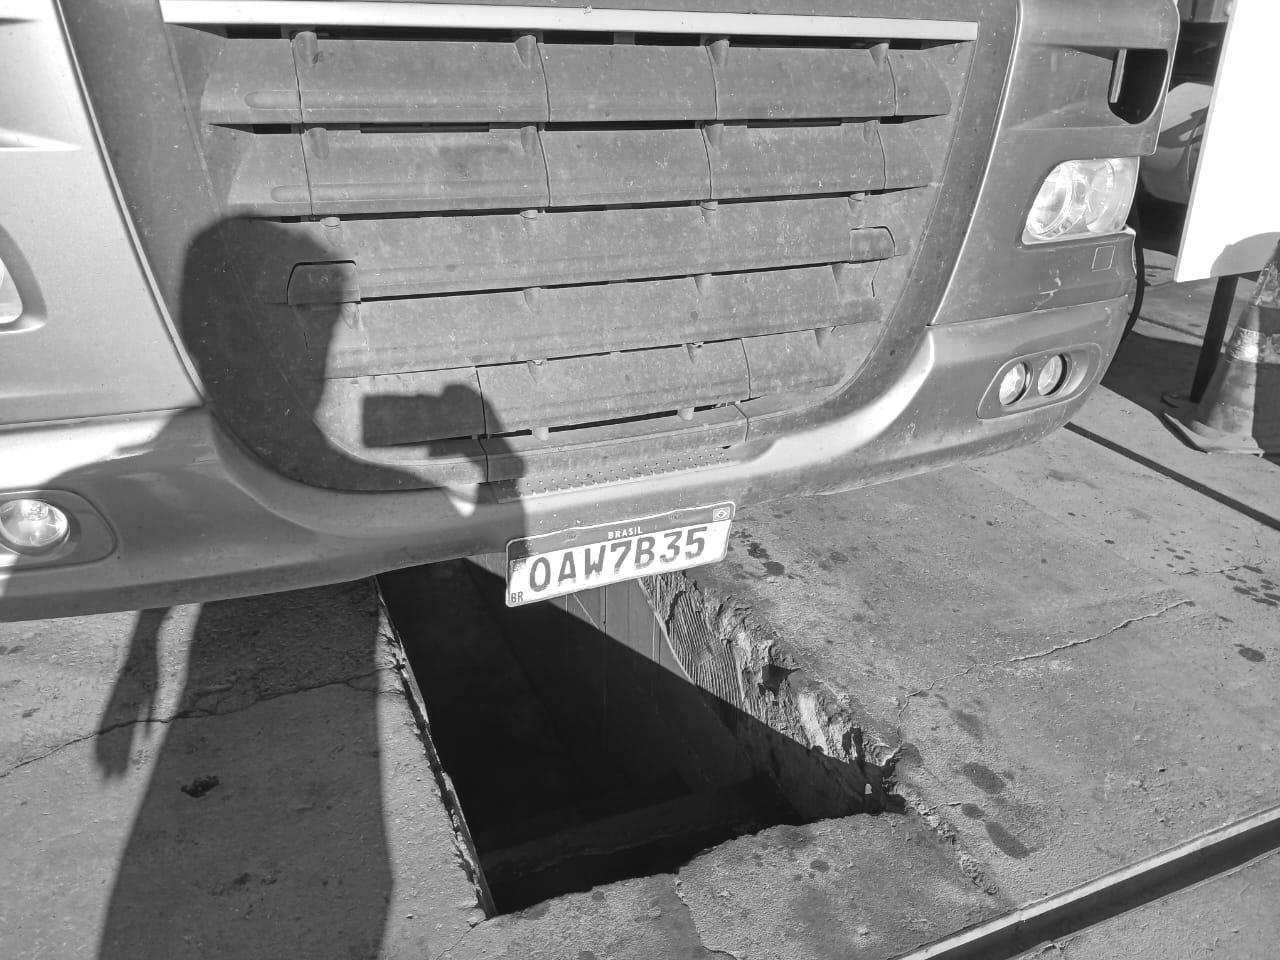placa_mercosul: (506, 502, 734, 607)
